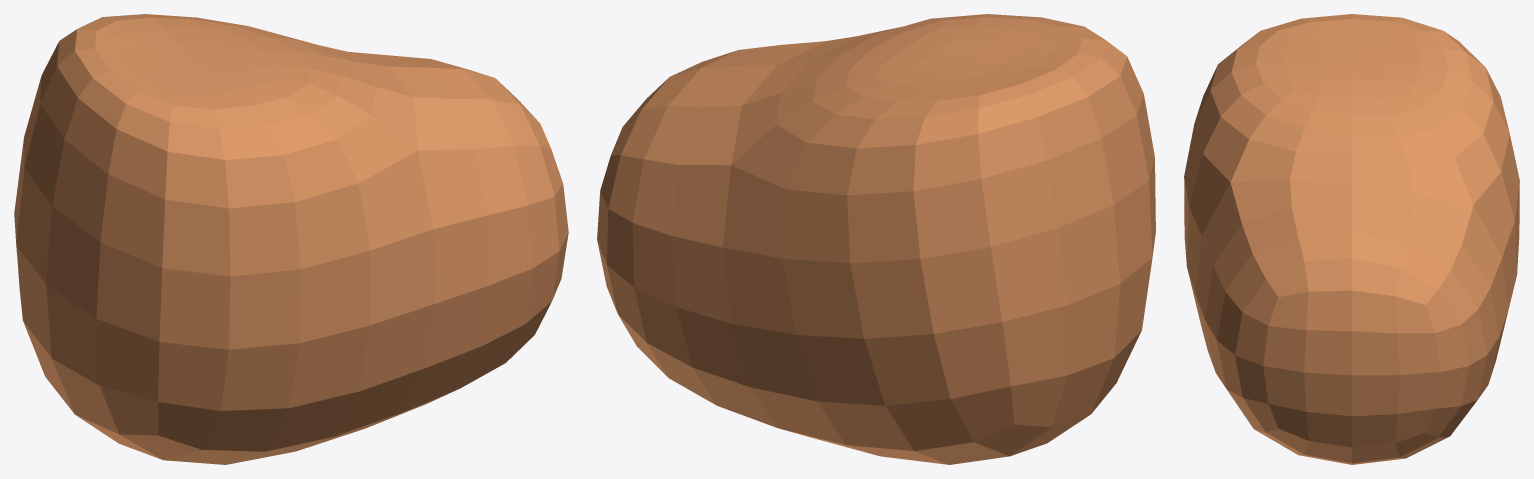
File: rock.fbx
The picture shows the model from 3 angles, left to right: view 1: azimuth 30°, elevation 25°; view 2: azimuth 150°, elevation 25°; view 3: azimuth 270°, elevation 25°; orthographic projection. The views are drawn at different scales.
Visible parts, largest first — view 1: Cube; view 2: Cube; view 3: Cube.
Part boxes in pixels (x1,y1,x2,y2): Cube: (14,14,568,464); Cube: (597,14,1155,464); Cube: (1184,14,1519,464).
Bounding box in the file's own units: 1127 × 884 × 806.
